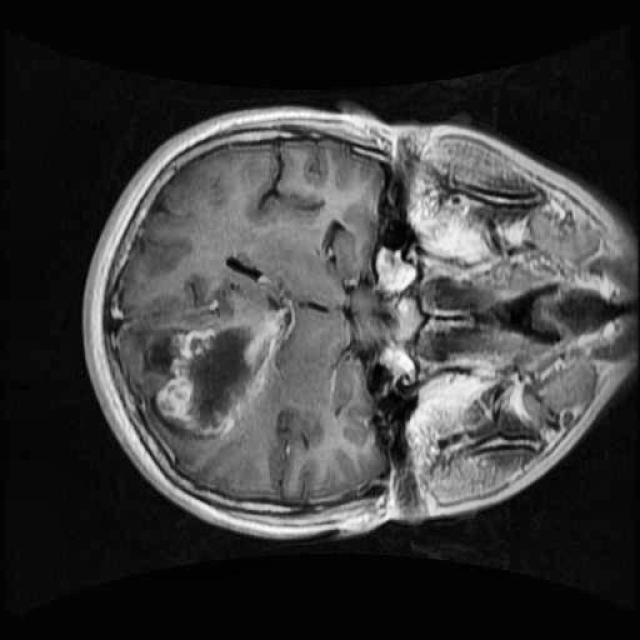Tumor: (144, 305, 290, 450)
